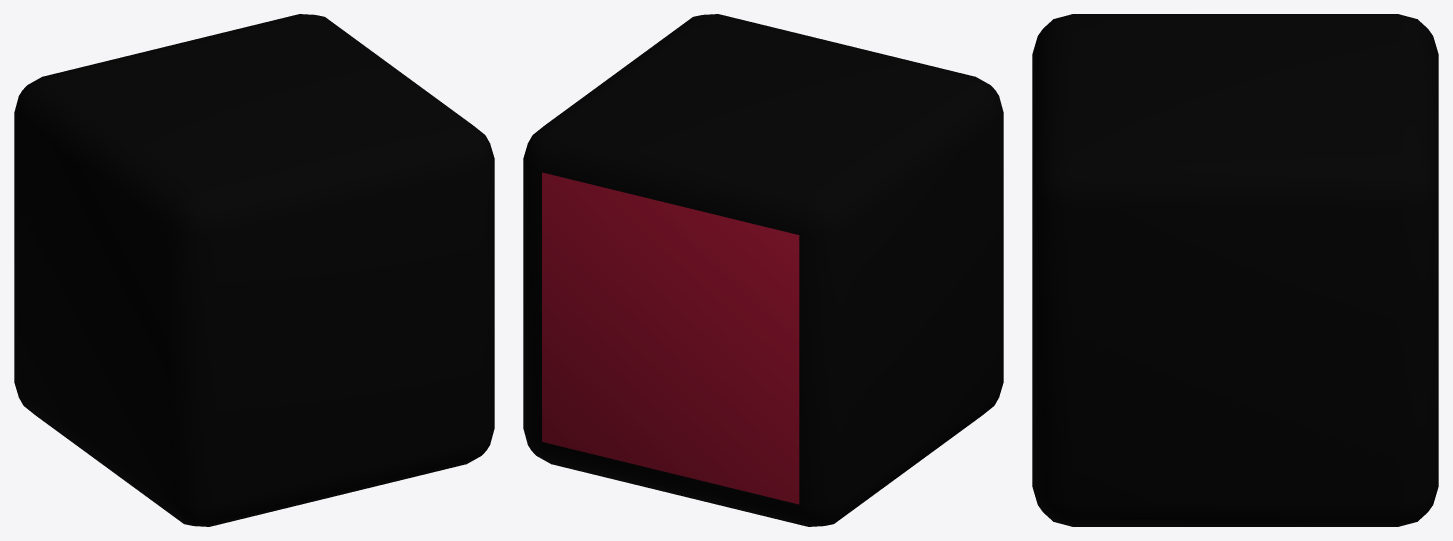
Rendered from cube_down_center.gltf.
3 renders of one model, left to right at view 1: azimuth 30°, elevation 25°; view 2: azimuth 150°, elevation 25°; view 3: azimuth 270°, elevation 25°, orthographic. The views are drawn at different scales.
Visible parts, largest first — view 1: Cube.016; view 2: Cube.016; view 3: Cube.016.
Part boxes in pixels (x1,y1,x2,y2): Cube.016: [14, 14, 494, 526]; Cube.016: [523, 14, 1003, 526]; Cube.016: [1032, 14, 1438, 526].
Bounding box in the file's own units: 2 × 2 × 2.
